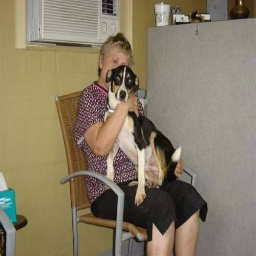dog: (100, 62, 182, 202)
